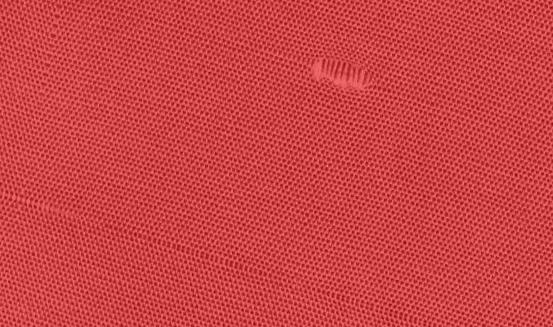slub: (307, 53, 380, 95)
